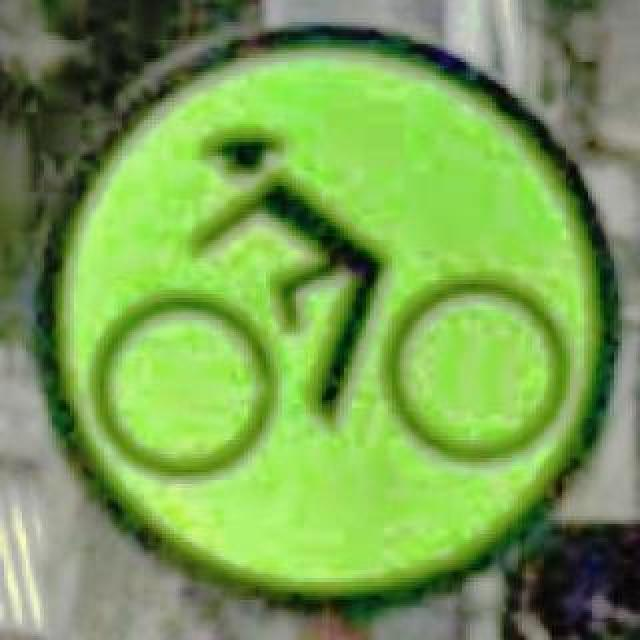bike lane: (34, 22, 618, 606)
